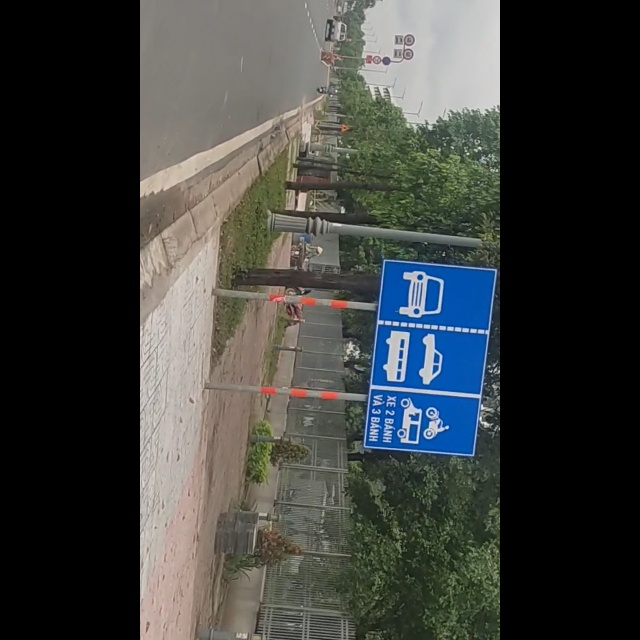bien_chi_dan: (399, 260, 619, 460)
